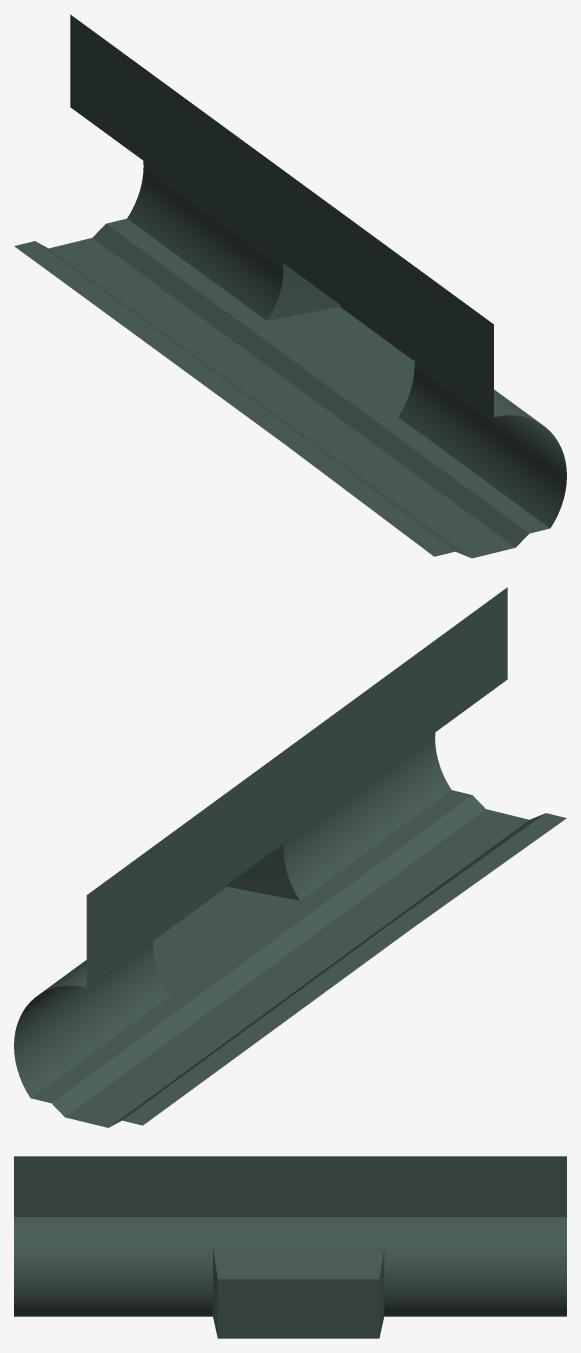
File: osnova.fbx
3 views of the same model, one above another, from view 1: azimuth 30°, elevation 25°; view 2: azimuth 150°, elevation 25°; view 3: azimuth 270°, elevation 25° (orthographic). The views are drawn at different scales.
Parts seen in each view (by area): view 1: Plane.001; view 2: Plane.001; view 3: Plane.001.
Boxes of the visible parts, <box> form: Plane.001: <box>14,14,566,558</box>; Plane.001: <box>14,587,566,1127</box>; Plane.001: <box>14,1156,566,1338</box>.
Bounding box in the file's own units: 1741 × 2052 × 6885.
